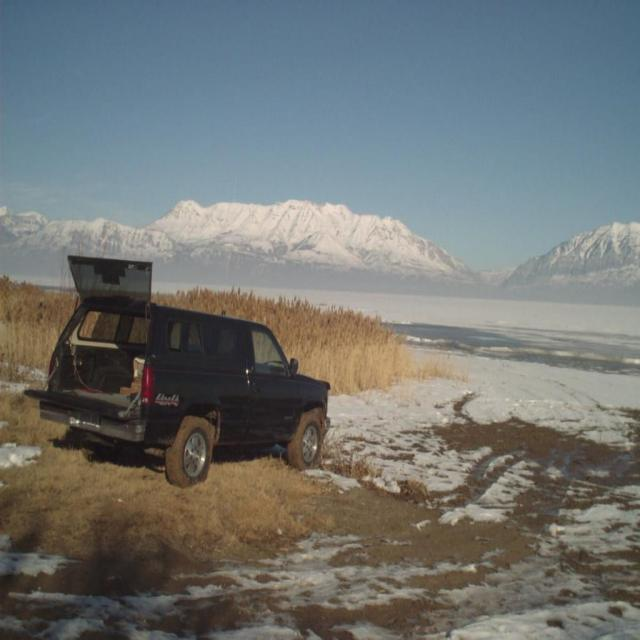car: (26, 254, 330, 485)
